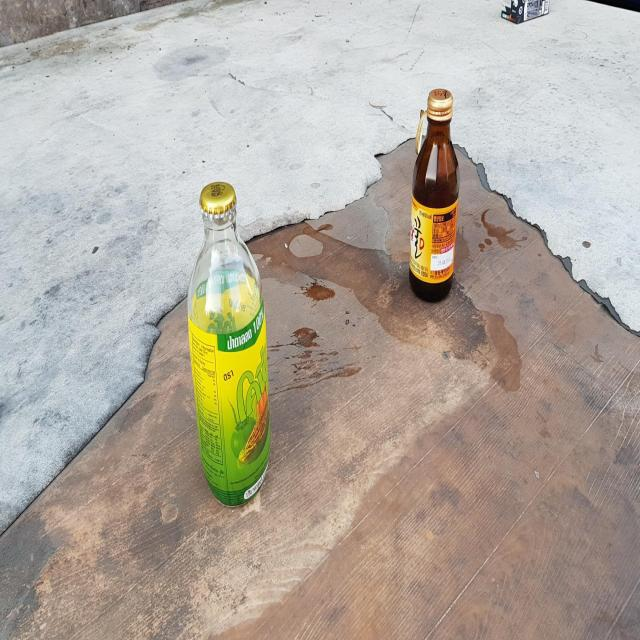glass: (187, 181, 271, 505), (409, 87, 460, 301)
